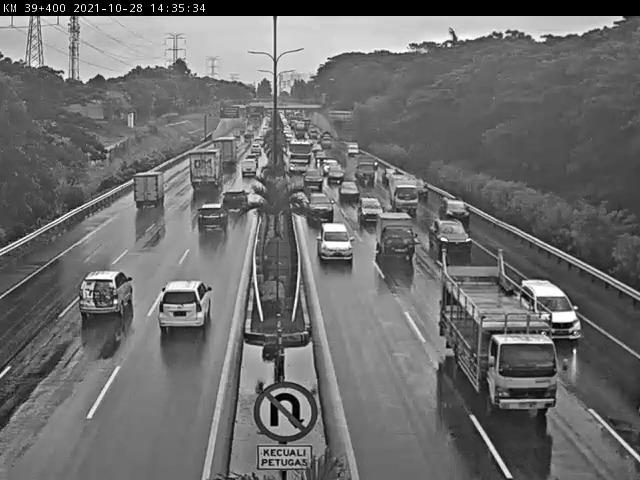big truck: (188, 150, 225, 193), (213, 136, 237, 168), (287, 138, 312, 168)
car: (519, 278, 583, 341), (158, 280, 218, 338), (82, 270, 141, 319), (430, 219, 472, 255), (379, 214, 413, 257), (318, 221, 352, 259), (195, 204, 228, 231), (221, 188, 249, 215), (357, 195, 384, 222), (438, 199, 468, 223), (308, 194, 333, 221), (235, 162, 258, 182), (339, 180, 359, 200), (304, 168, 325, 185), (410, 174, 426, 194), (244, 156, 261, 170), (248, 145, 262, 158), (331, 171, 344, 185), (324, 158, 335, 169)
small truck: (440, 263, 558, 411), (133, 171, 167, 211), (386, 176, 419, 212), (355, 158, 375, 182)
